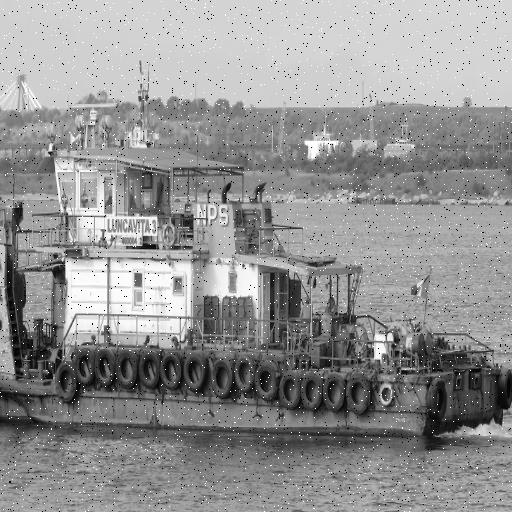tugboat: (1, 92, 512, 456)
